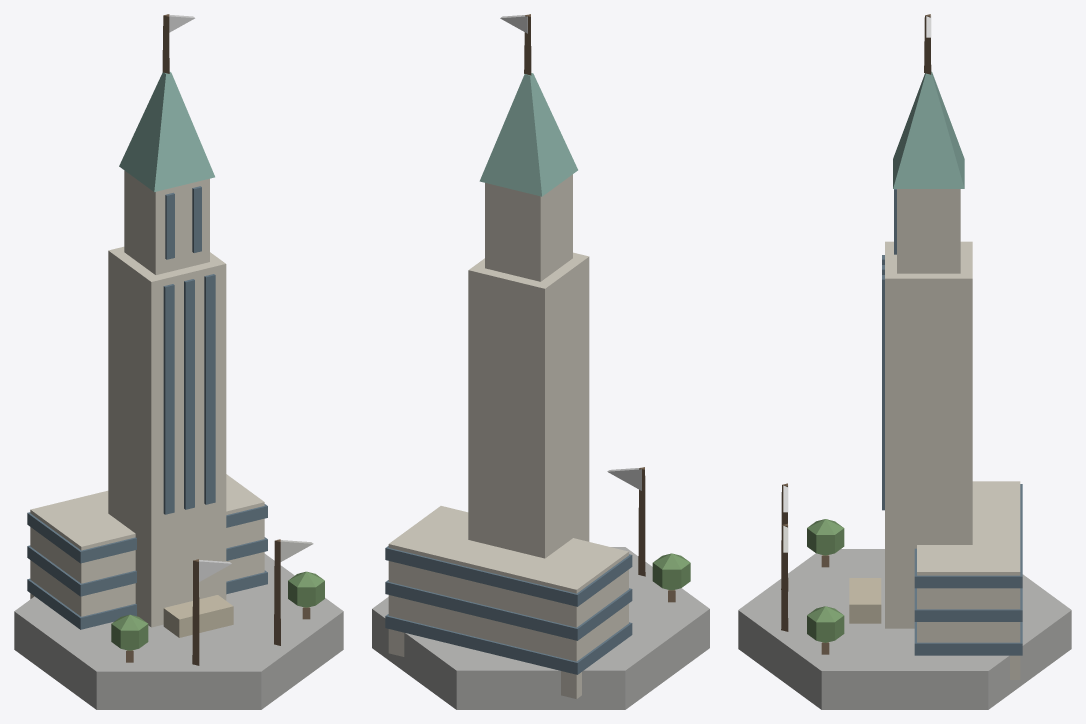
File: center-modern.glb
3 views of the same model, side by side, from view 1: azimuth 30°, elevation 25°; view 2: azimuth 150°, elevation 25°; view 3: azimuth 270°, elevation 25° (orthographic). The views are drawn at different scales.
Parts seen in each view (by area): view 1: LOD0; view 2: LOD0; view 3: LOD0.
Boxes of the visible parts, x1=… form: LOD0: x1=14, y1=14, x2=343, y2=709; LOD0: x1=372, y1=14, x2=709, y2=709; LOD0: x1=738, y1=14, x2=1071, y2=709.
Size of what is drawn, in the model's own units: 0.3637 by 0.88 by 0.42.
